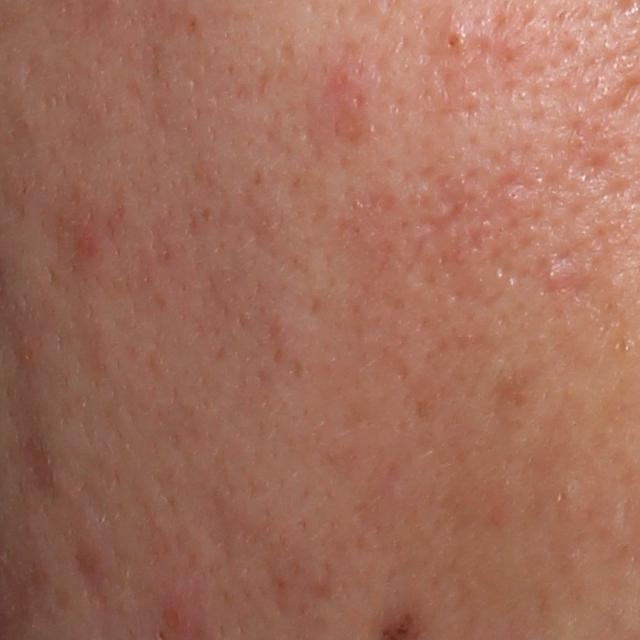atrophic_scar: (411, 176, 476, 264), (14, 427, 59, 499), (67, 538, 107, 600), (568, 150, 613, 179)
comedo: (441, 24, 466, 64)
papule: (326, 55, 372, 124), (539, 257, 572, 289)
